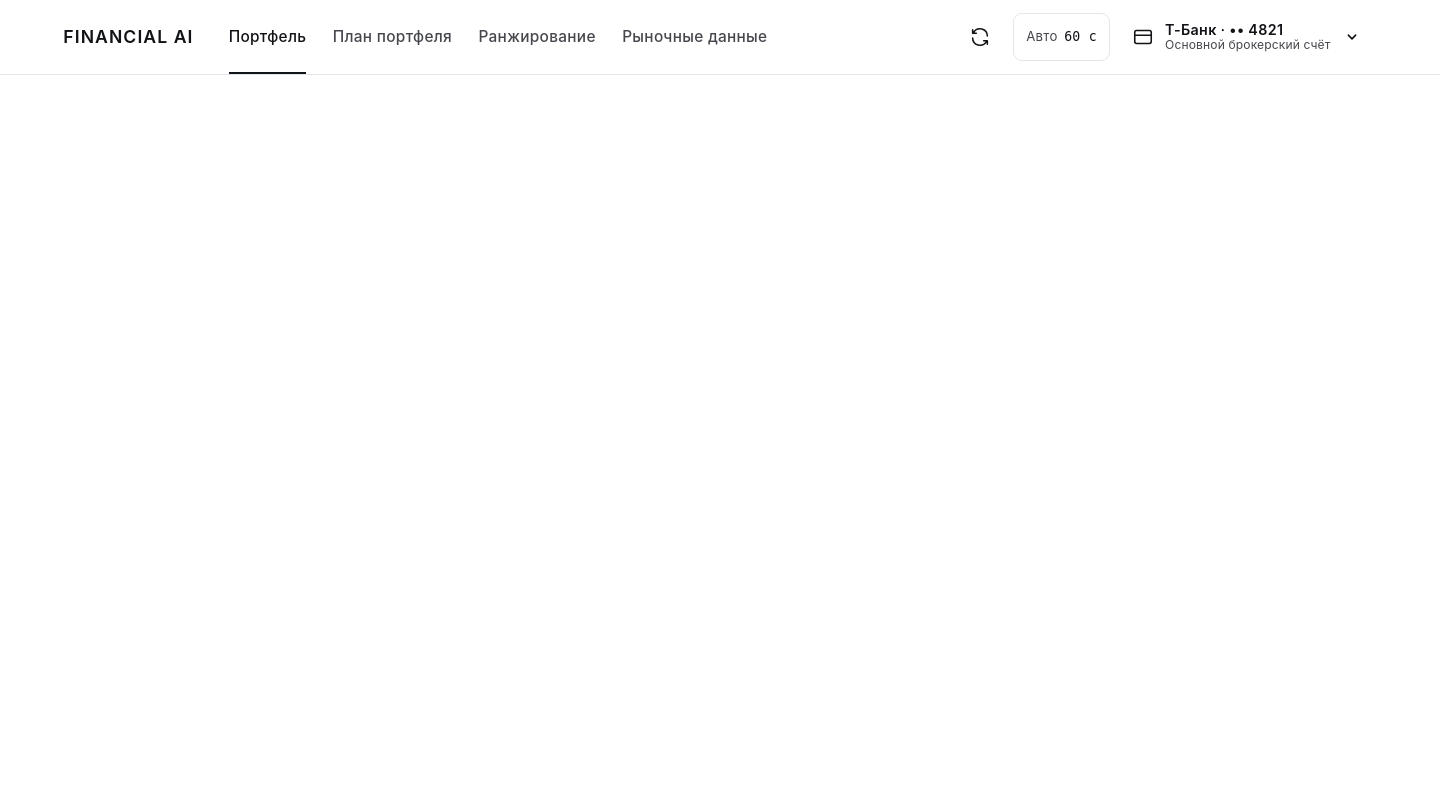
Test: ручное обновление › сообщает, что обновление уже выполнялось
Click the button named "Обновить данные": (980,37) left=956, top=13, right=1004, bottom=61
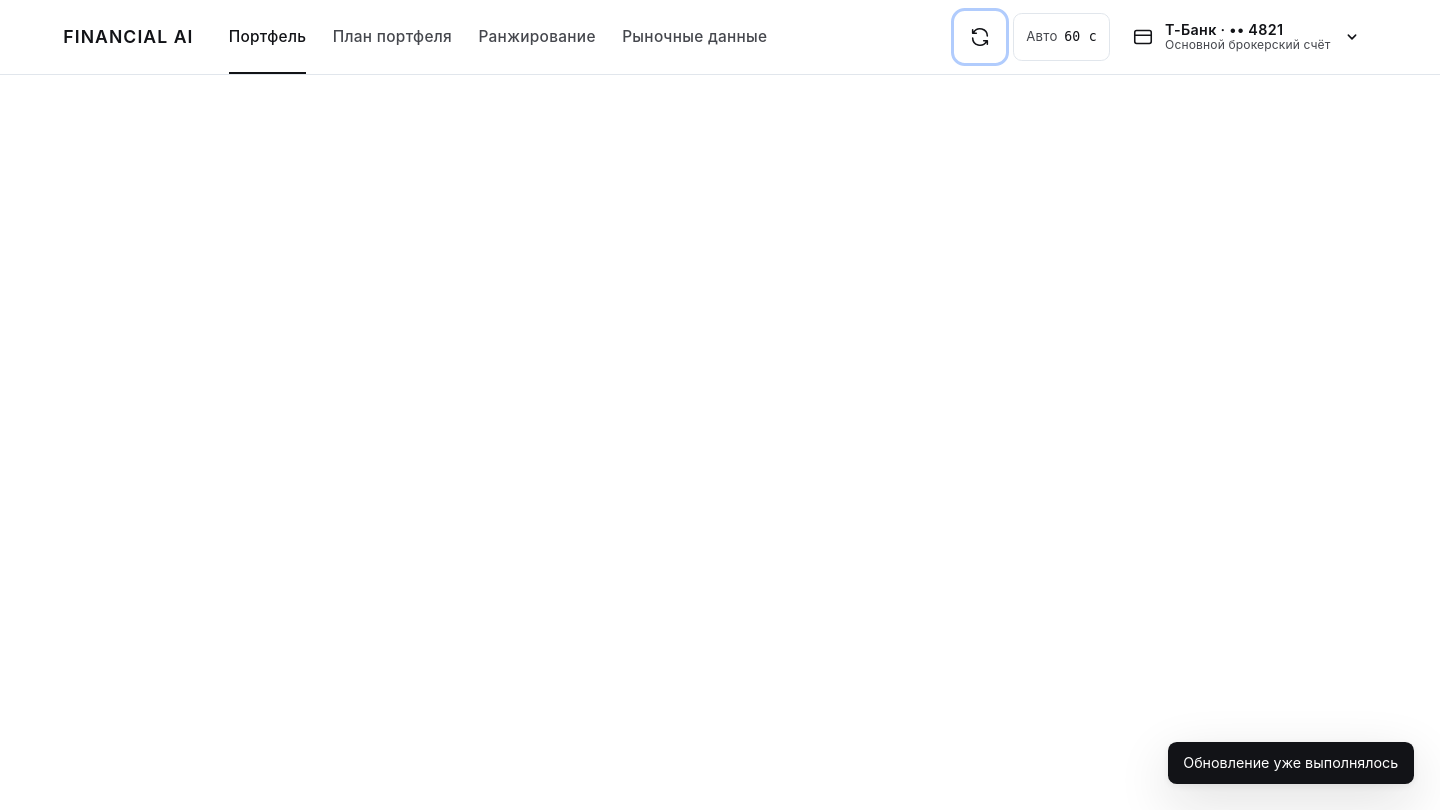
Check: the text "Обновление уже выполнялось" is shown, box left=1168, top=742, right=1414, bottom=784
